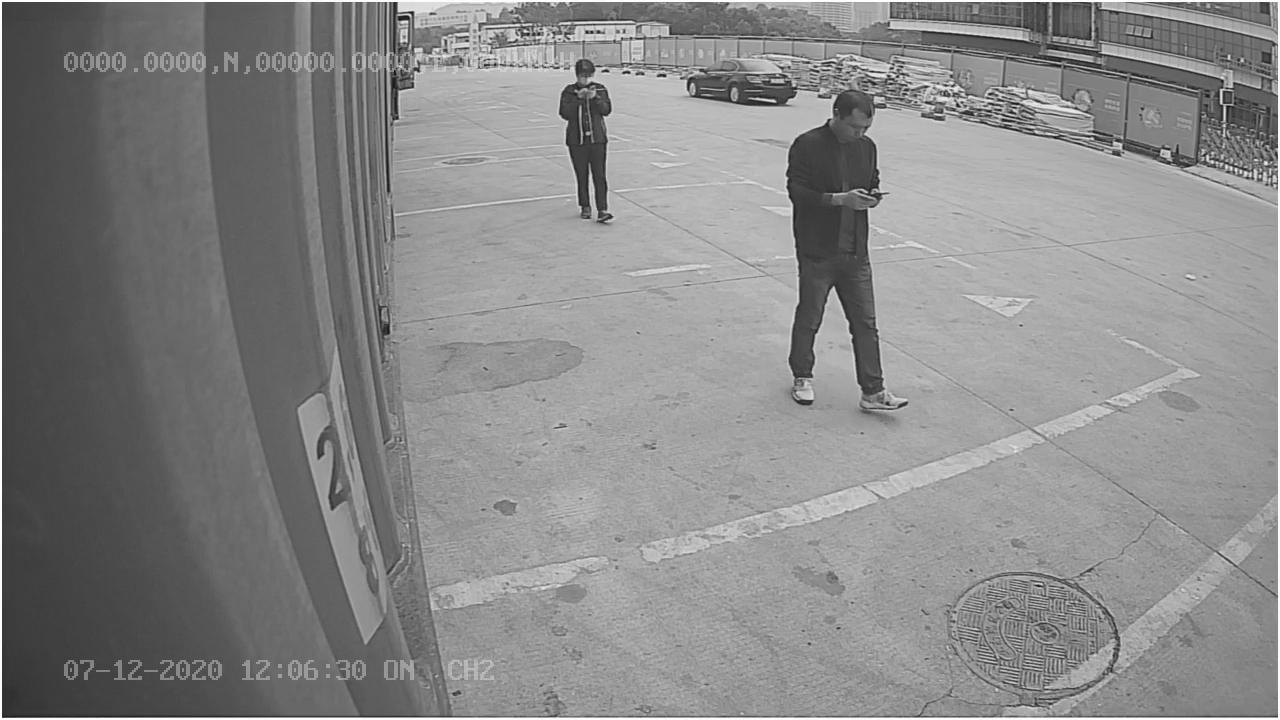person: (784, 90, 908, 420)
